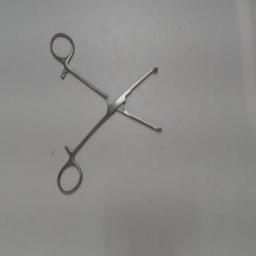Allis Tissue Forceps: (47, 29, 167, 197)
